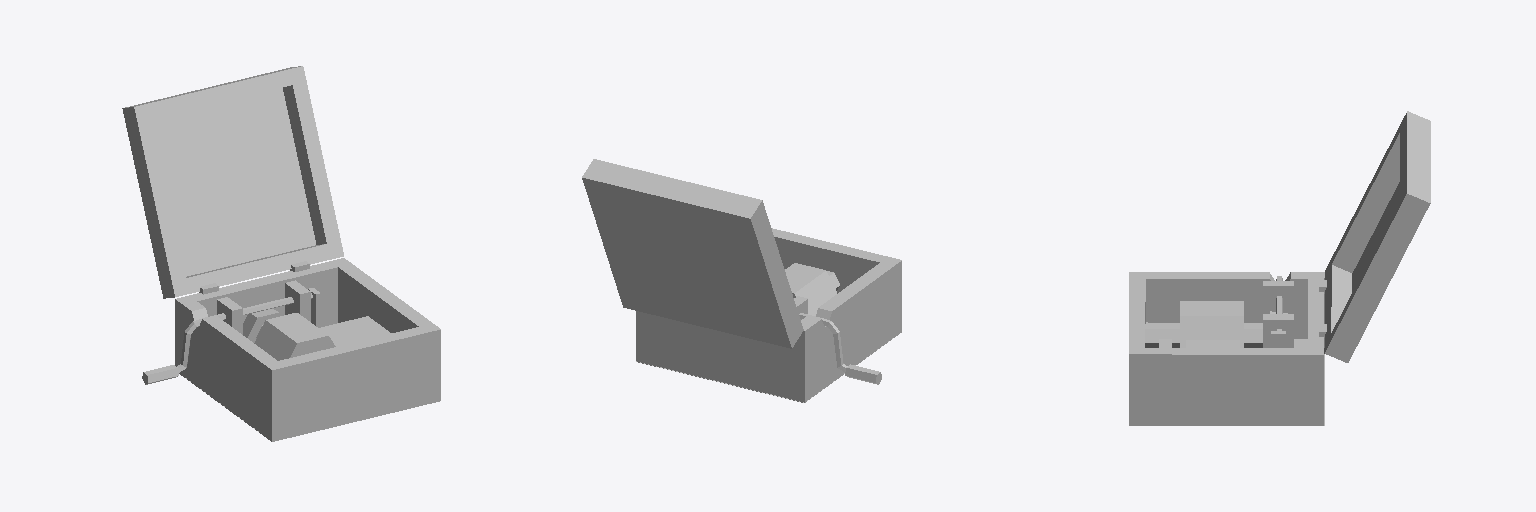
Rendered from music_box.obj.
3 views of the same model, side by side, from view 1: azimuth 30°, elevation 25°; view 2: azimuth 150°, elevation 25°; view 3: azimuth 270°, elevation 25° (orthographic).
Size of the model in its own units: 0.3149 by 0.3166 by 0.3715.